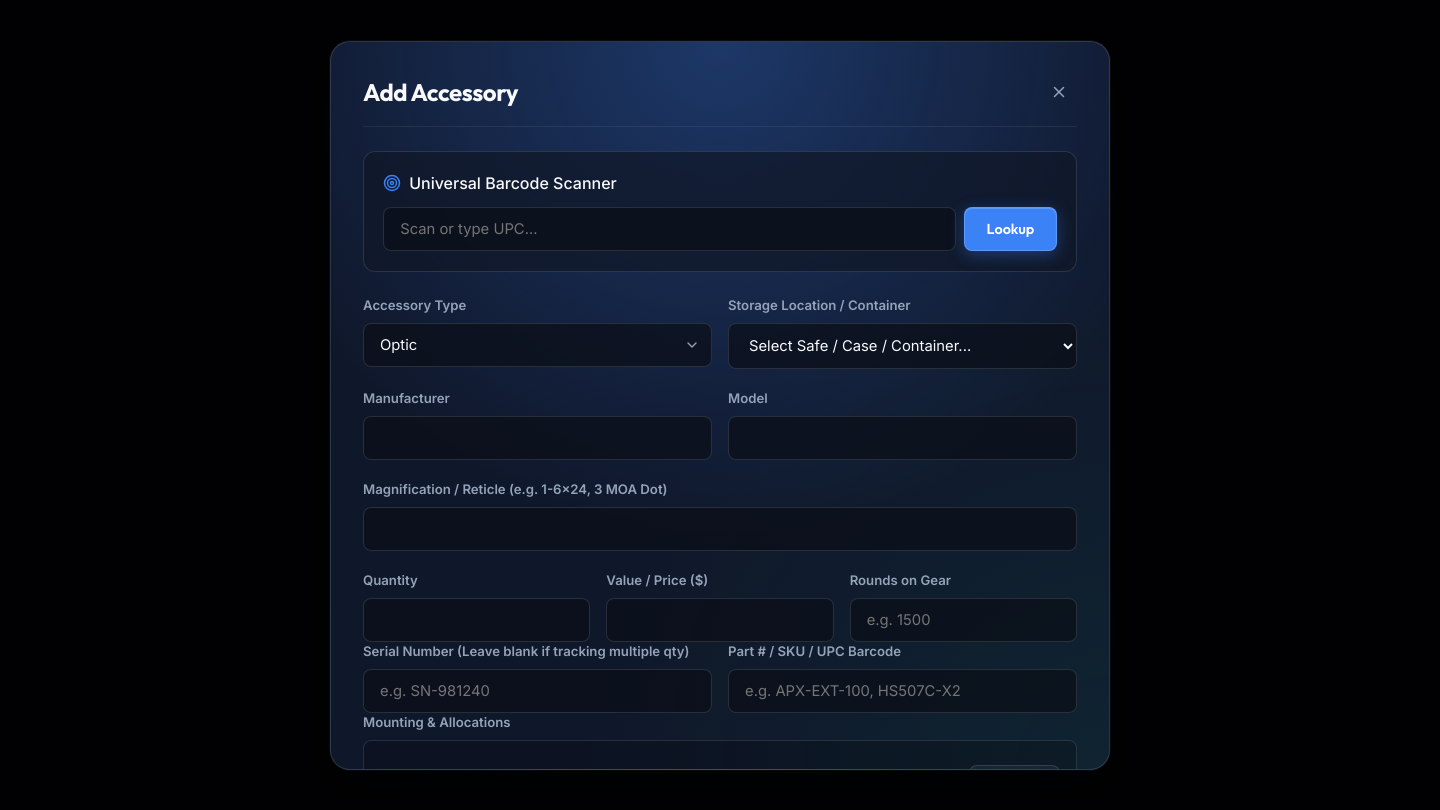
Test: AccessoryModal Custom SKU Integration › auto-fills accessory details when custom SKU is looked up
Type "APX-EXT-100" into the field with placeholder "Scan or type UPC..." at (670, 230), box x1=383 y1=208 x2=956 y2=252
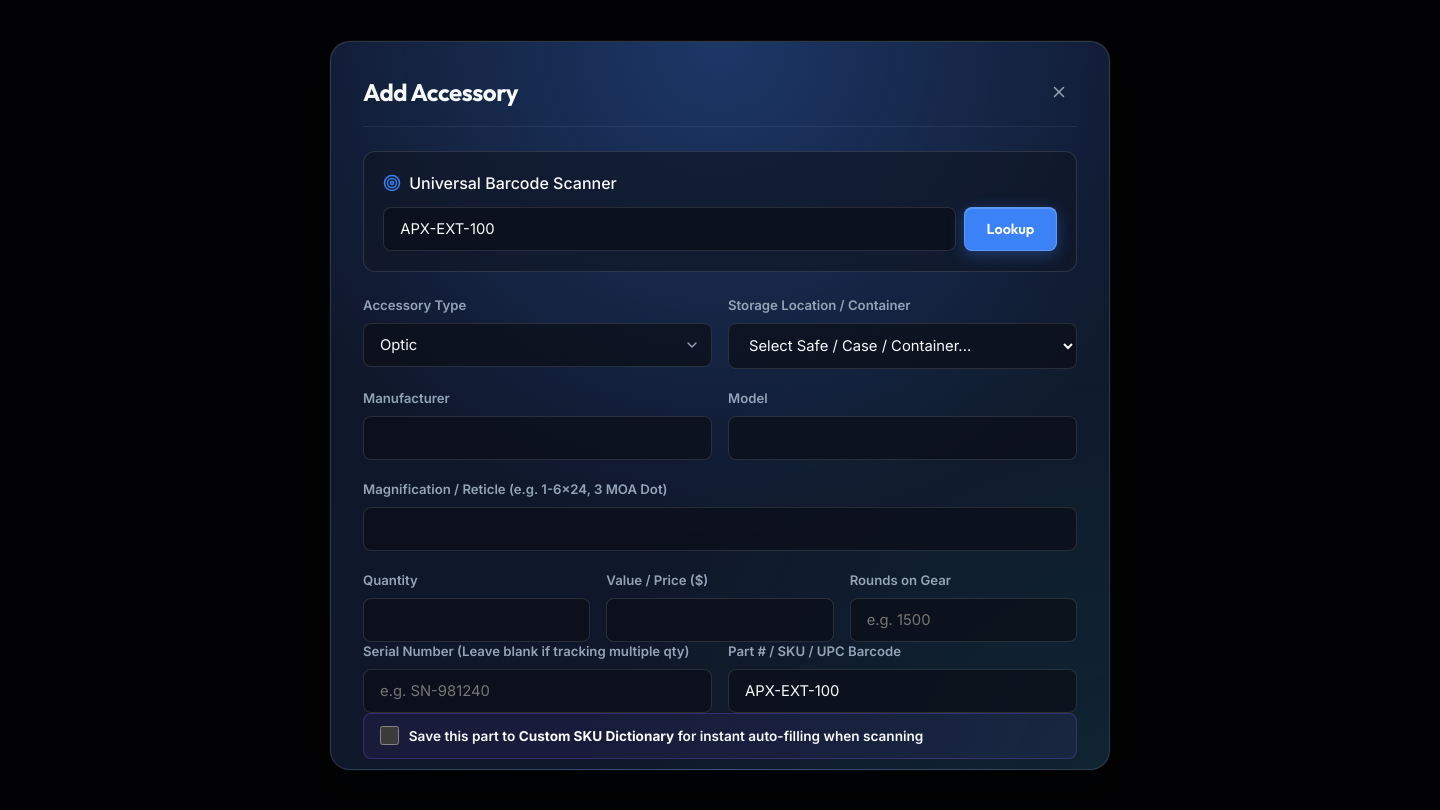
Click the button "Lookup" at (1010, 230), box x1=964 y1=208 x2=1057 y2=252
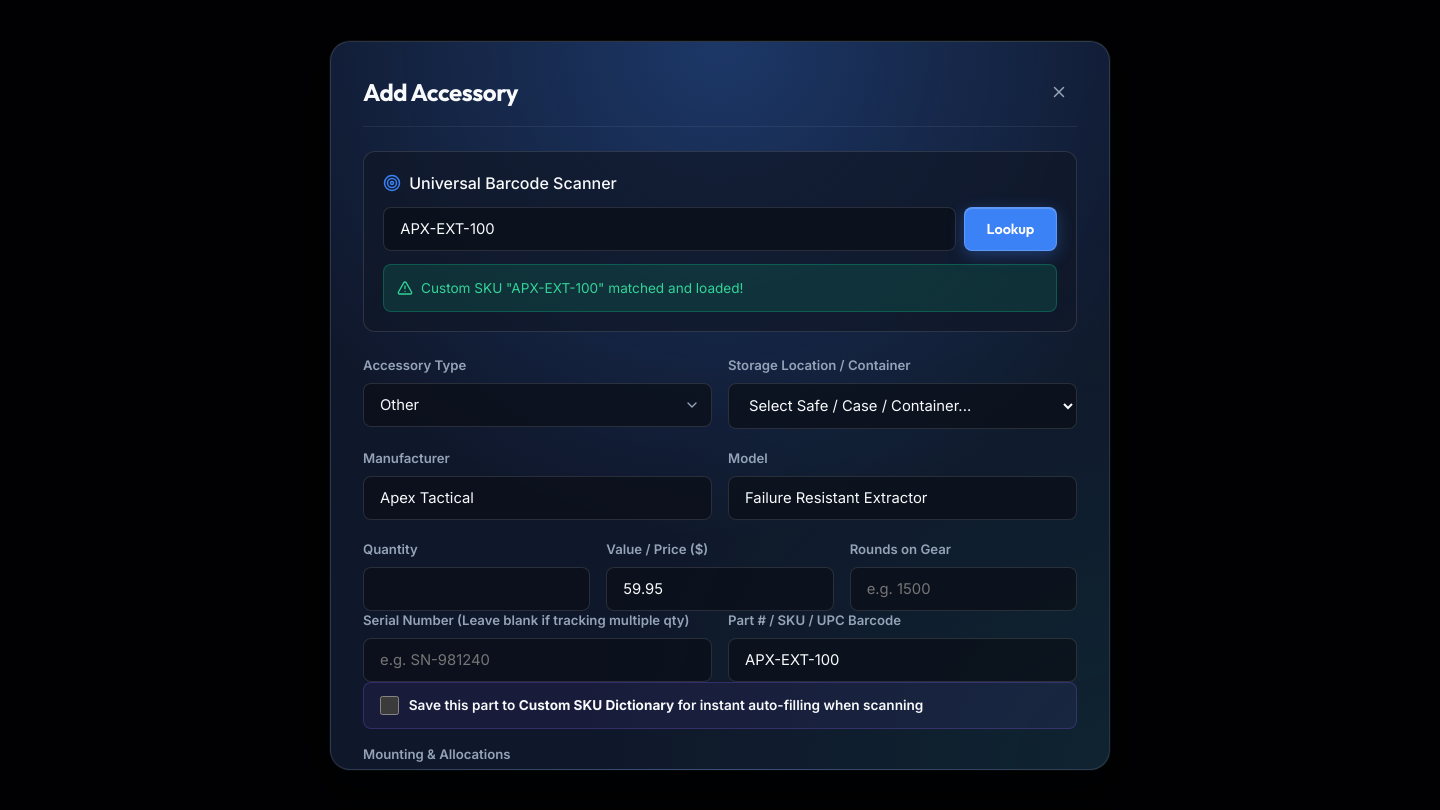
Now the field showing "Apex Tactical" below "Manufacturer" is shown, box x1=363 y1=476 x2=712 y2=520
Now the field showing "Failure Resistant Extractor" below "Model" is shown, box x1=728 y1=476 x2=1077 y2=520
Now the number field showing "59.95" below "Value / Price ($)" is shown, box x1=606 y1=567 x2=834 y2=611
